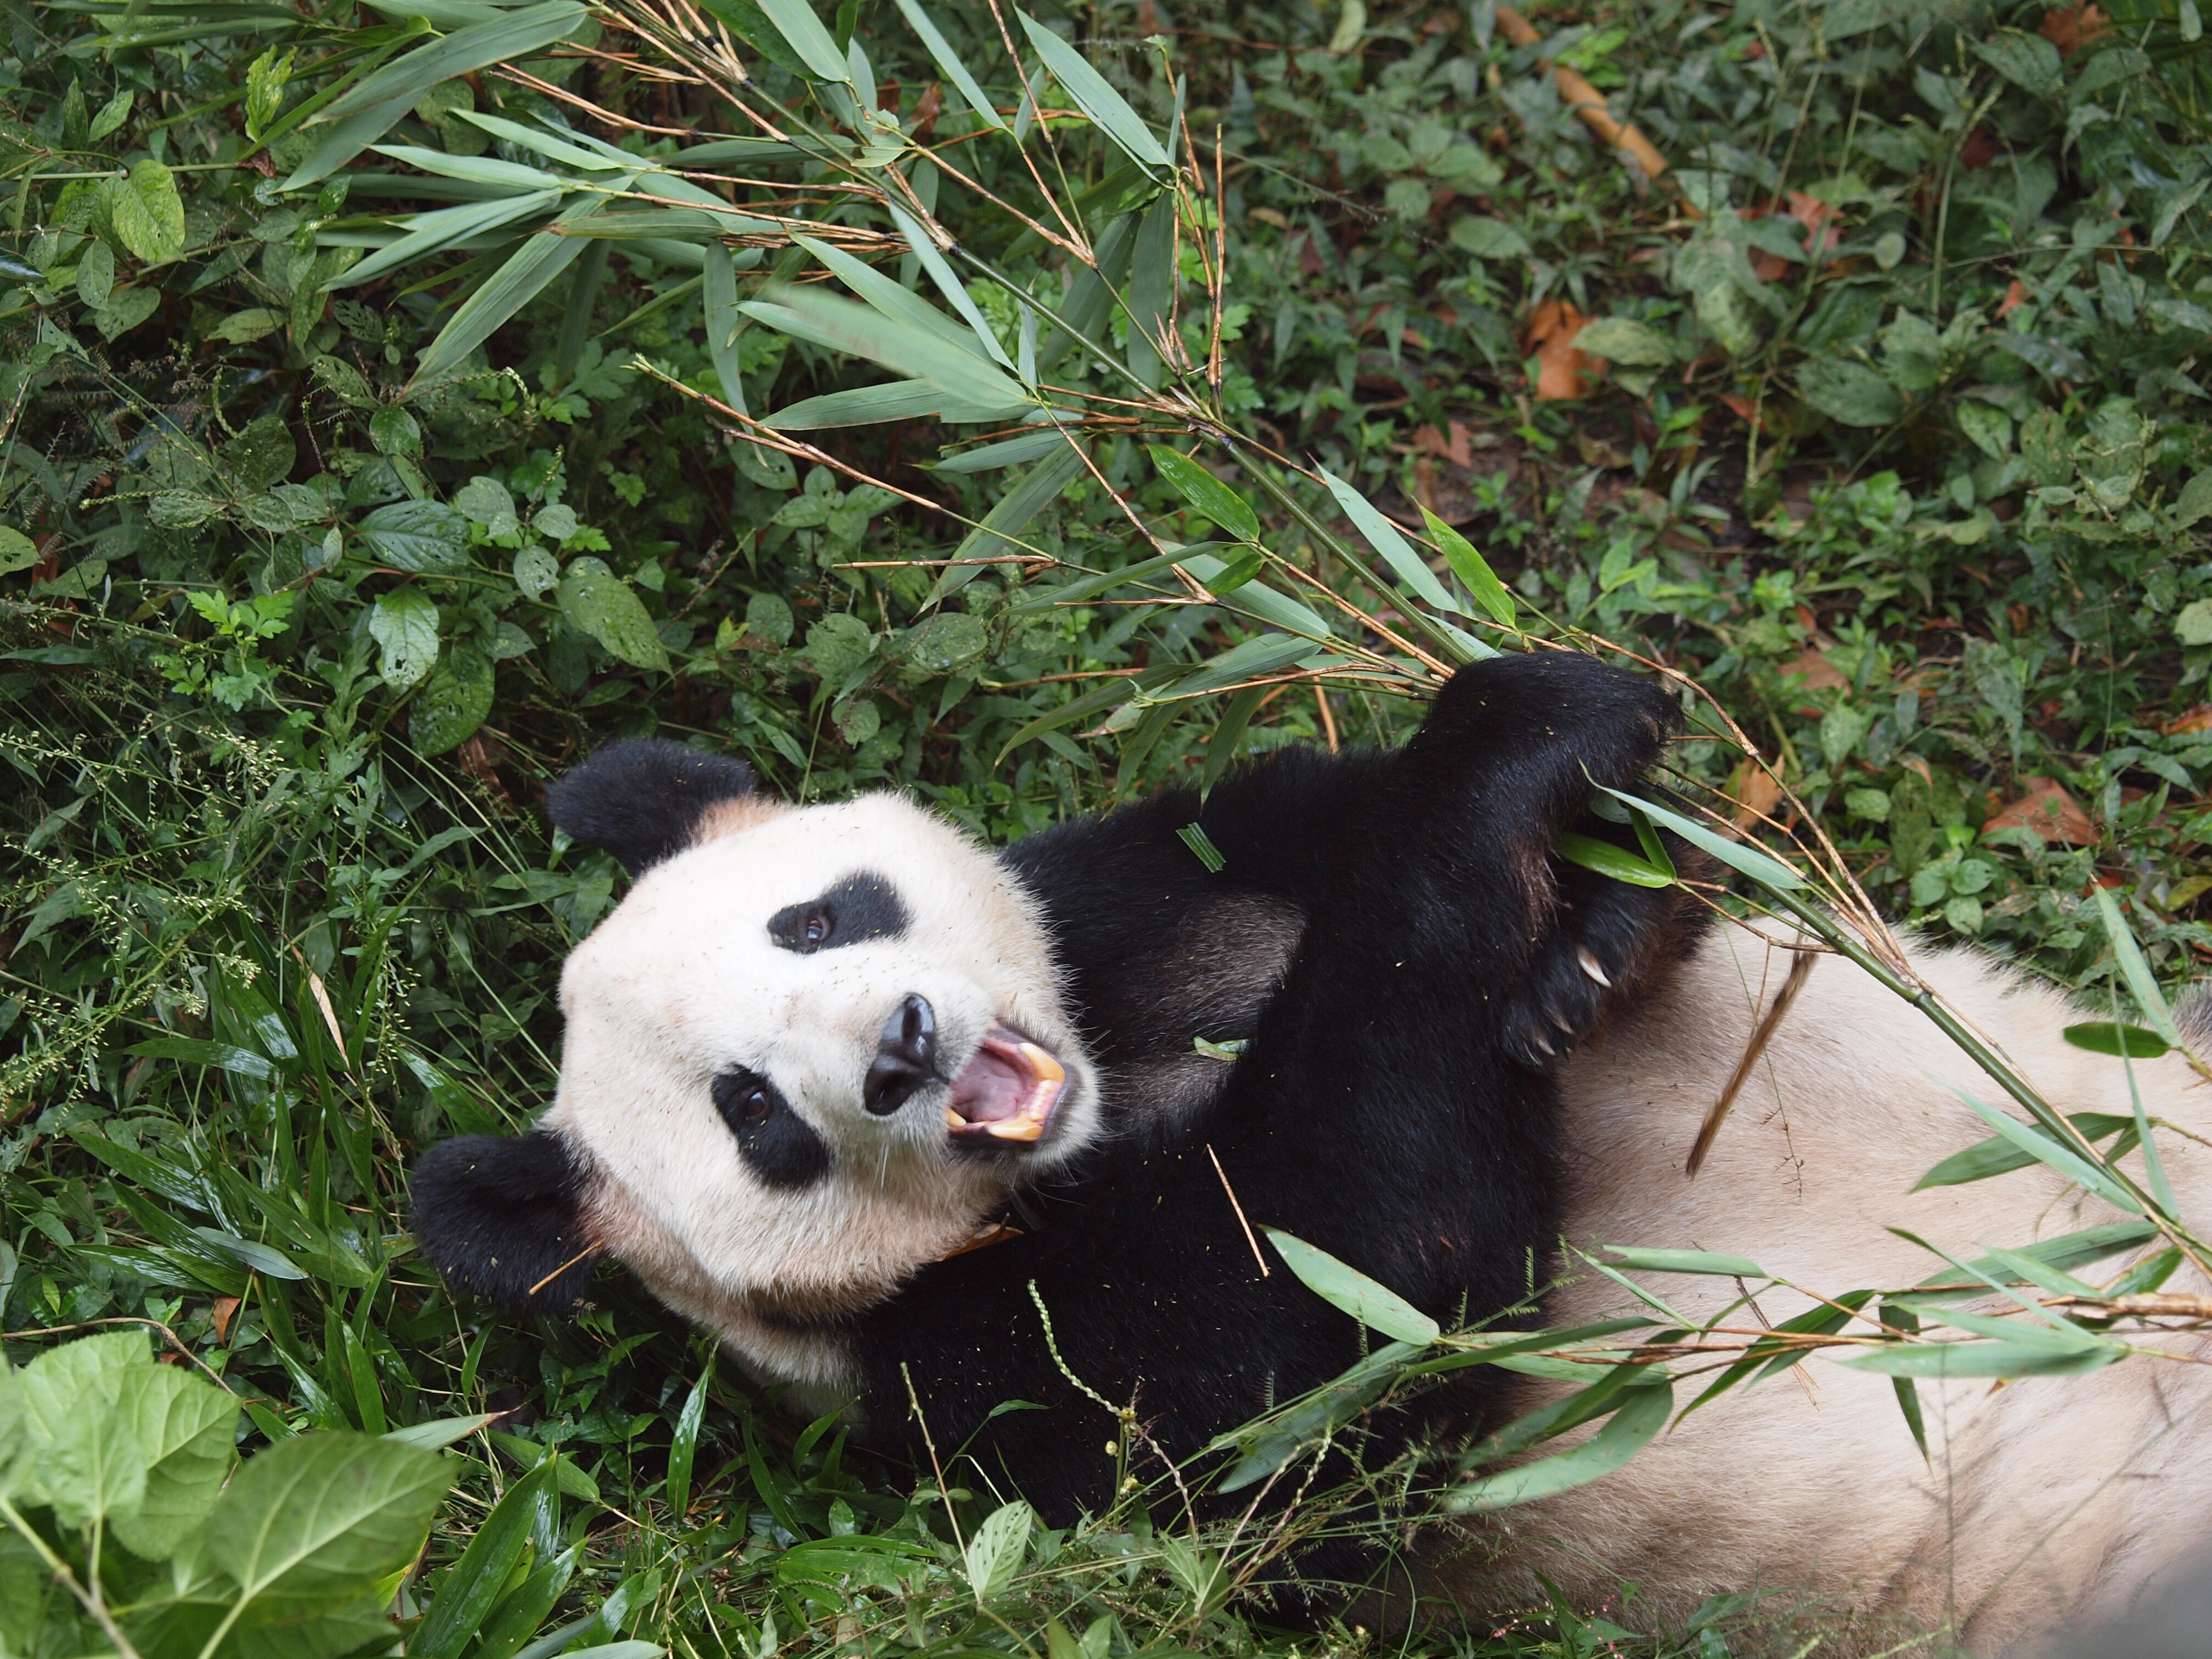panda: (451, 606, 2196, 1645)
